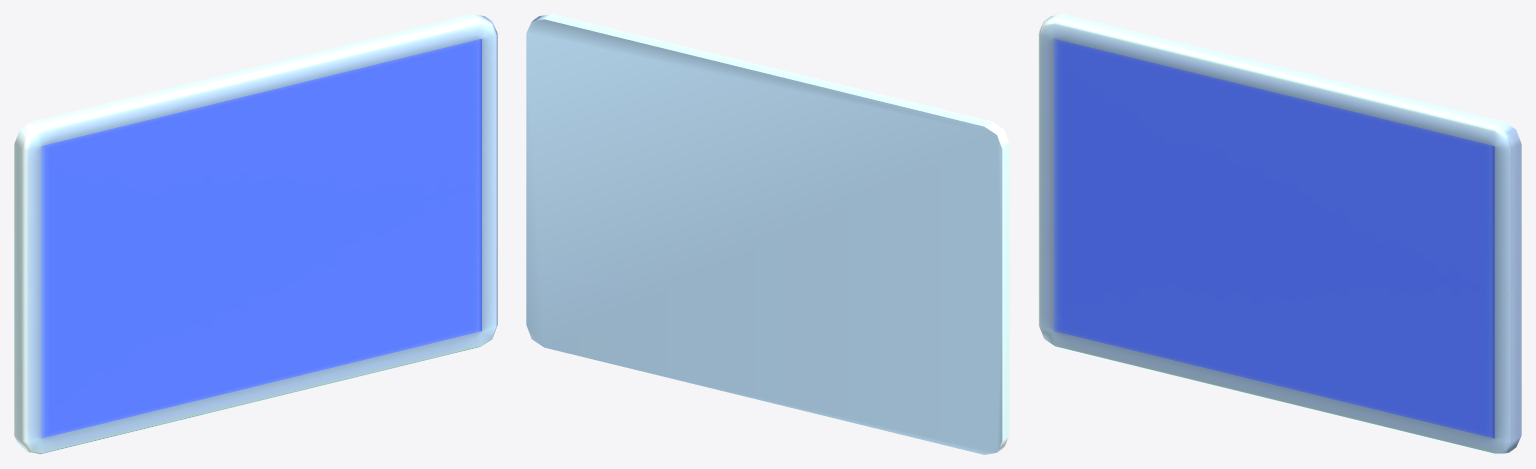
Rendered from workstation_display.glb.
The picture shows the model from 3 angles, left to right: view 1: azimuth 30°, elevation 25°; view 2: azimuth 150°, elevation 25°; view 3: azimuth 330°, elevation 25°; orthographic projection.
Visible parts, largest first — view 1: obj_queue; view 2: obj_queue; view 3: obj_queue.
Part boxes in pixels (<box>): obj_queue: <box>14,14,497,454</box>; obj_queue: <box>526,14,1009,454</box>; obj_queue: <box>1038,14,1521,454</box>.
Size of what is drawn, in the model's own units: 0.9182 by 0.6054 by 0.0312.
1 material, 1 textured.
